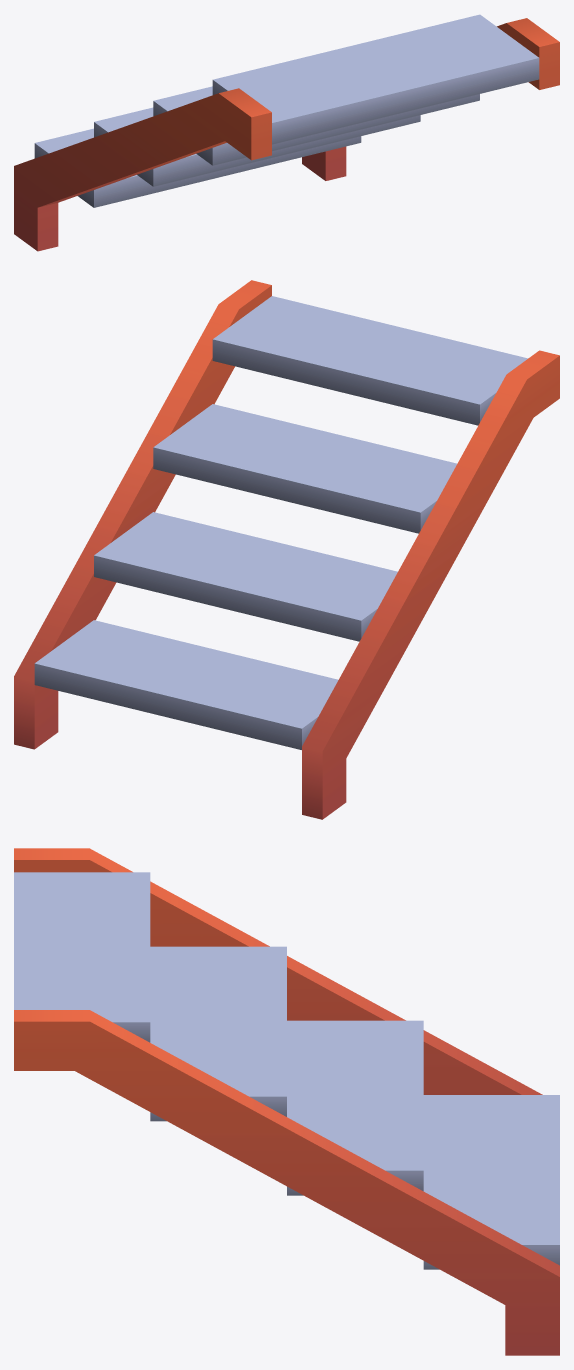
Rendered from kenney-building-stairs-sides-short.glb.
The picture shows the model from 3 angles, top to bottom: view 1: azimuth 30°, elevation 25°; view 2: azimuth 150°, elevation 25°; view 3: azimuth 270°, elevation 25°; orthographic projection. The views are drawn at different scales.
Visible parts, largest first — view 1: stairs-sides-short; view 2: stairs-sides-short; view 3: stairs-sides-short.
Boxes of the visible parts, left/top/right/bottom form: stairs-sides-short: left=14, top=14, right=559, bottom=251; stairs-sides-short: left=14, top=280, right=559, bottom=819; stairs-sides-short: left=14, top=848, right=559, bottom=1355.
Size of the model in its own units: 1.5 by 1.35 by 2.
Materials: 1 (1 with a texture image).
